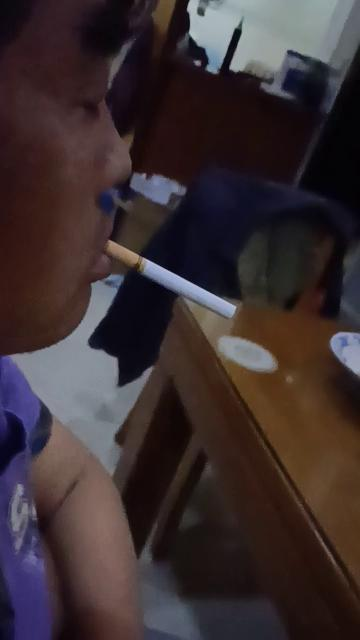Smoking: (104, 240, 241, 320)
